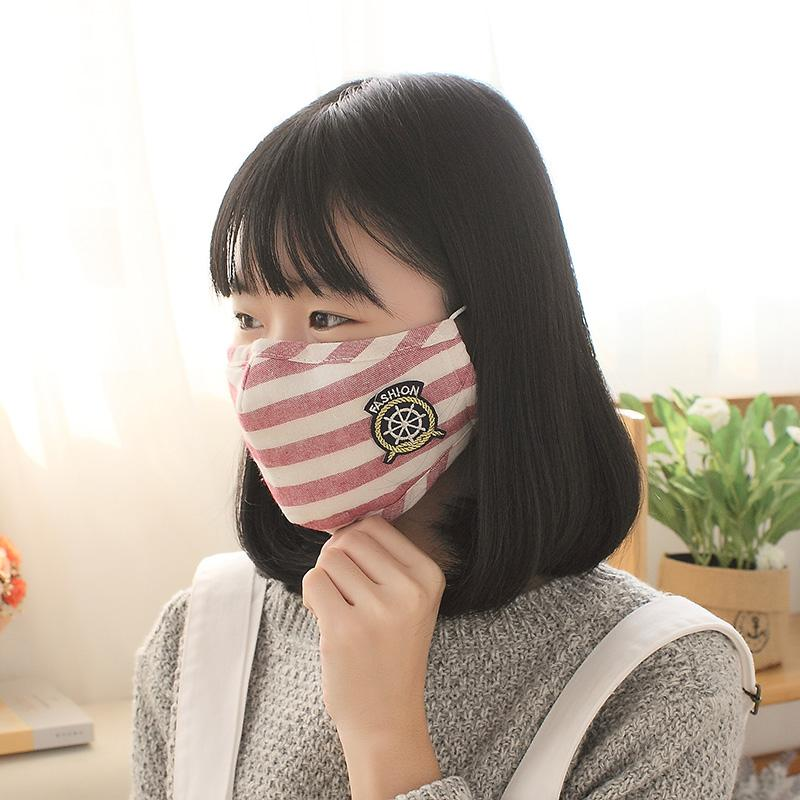OK: (212, 266, 476, 530)
